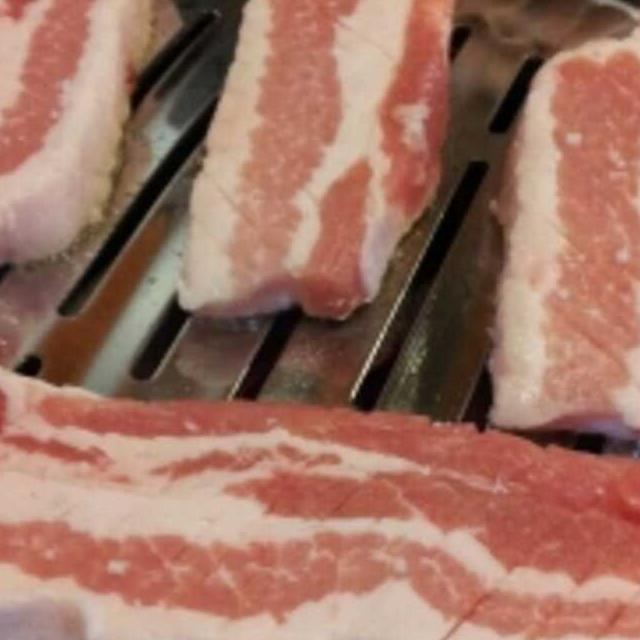beef: (0, 248, 640, 640), (176, 0, 459, 319), (488, 0, 640, 442), (0, 0, 167, 293)
